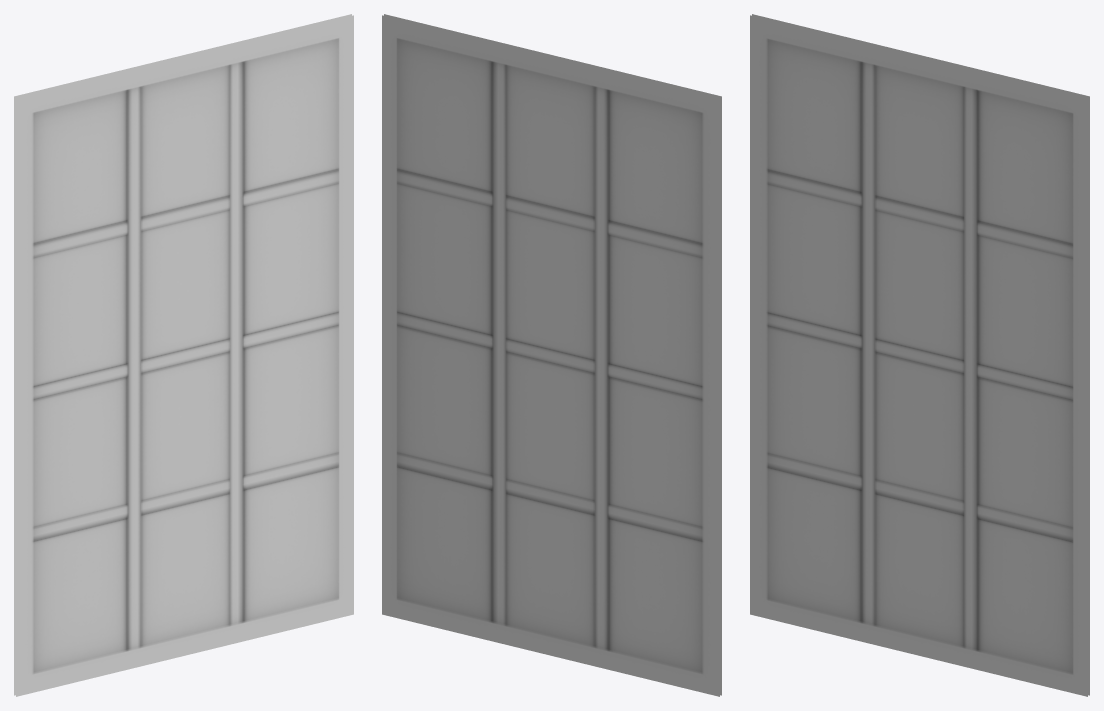
File: Glass_Grid.FBX
The picture shows the model from 3 angles, left to right: view 1: azimuth 30°, elevation 25°; view 2: azimuth 150°, elevation 25°; view 3: azimuth 330°, elevation 25°; orthographic projection.
Parts seen in each view (by area): view 1: Glass_Grid; view 2: Glass_Grid; view 3: Glass_Grid.
Boxes of the visible parts, box(x1,y1,x2,y2) form: Glass_Grid: box(14, 14, 353, 696); Glass_Grid: box(382, 14, 721, 696); Glass_Grid: box(750, 14, 1089, 696).
Bounding box in the file's own units: 104 × 177 × 1.
